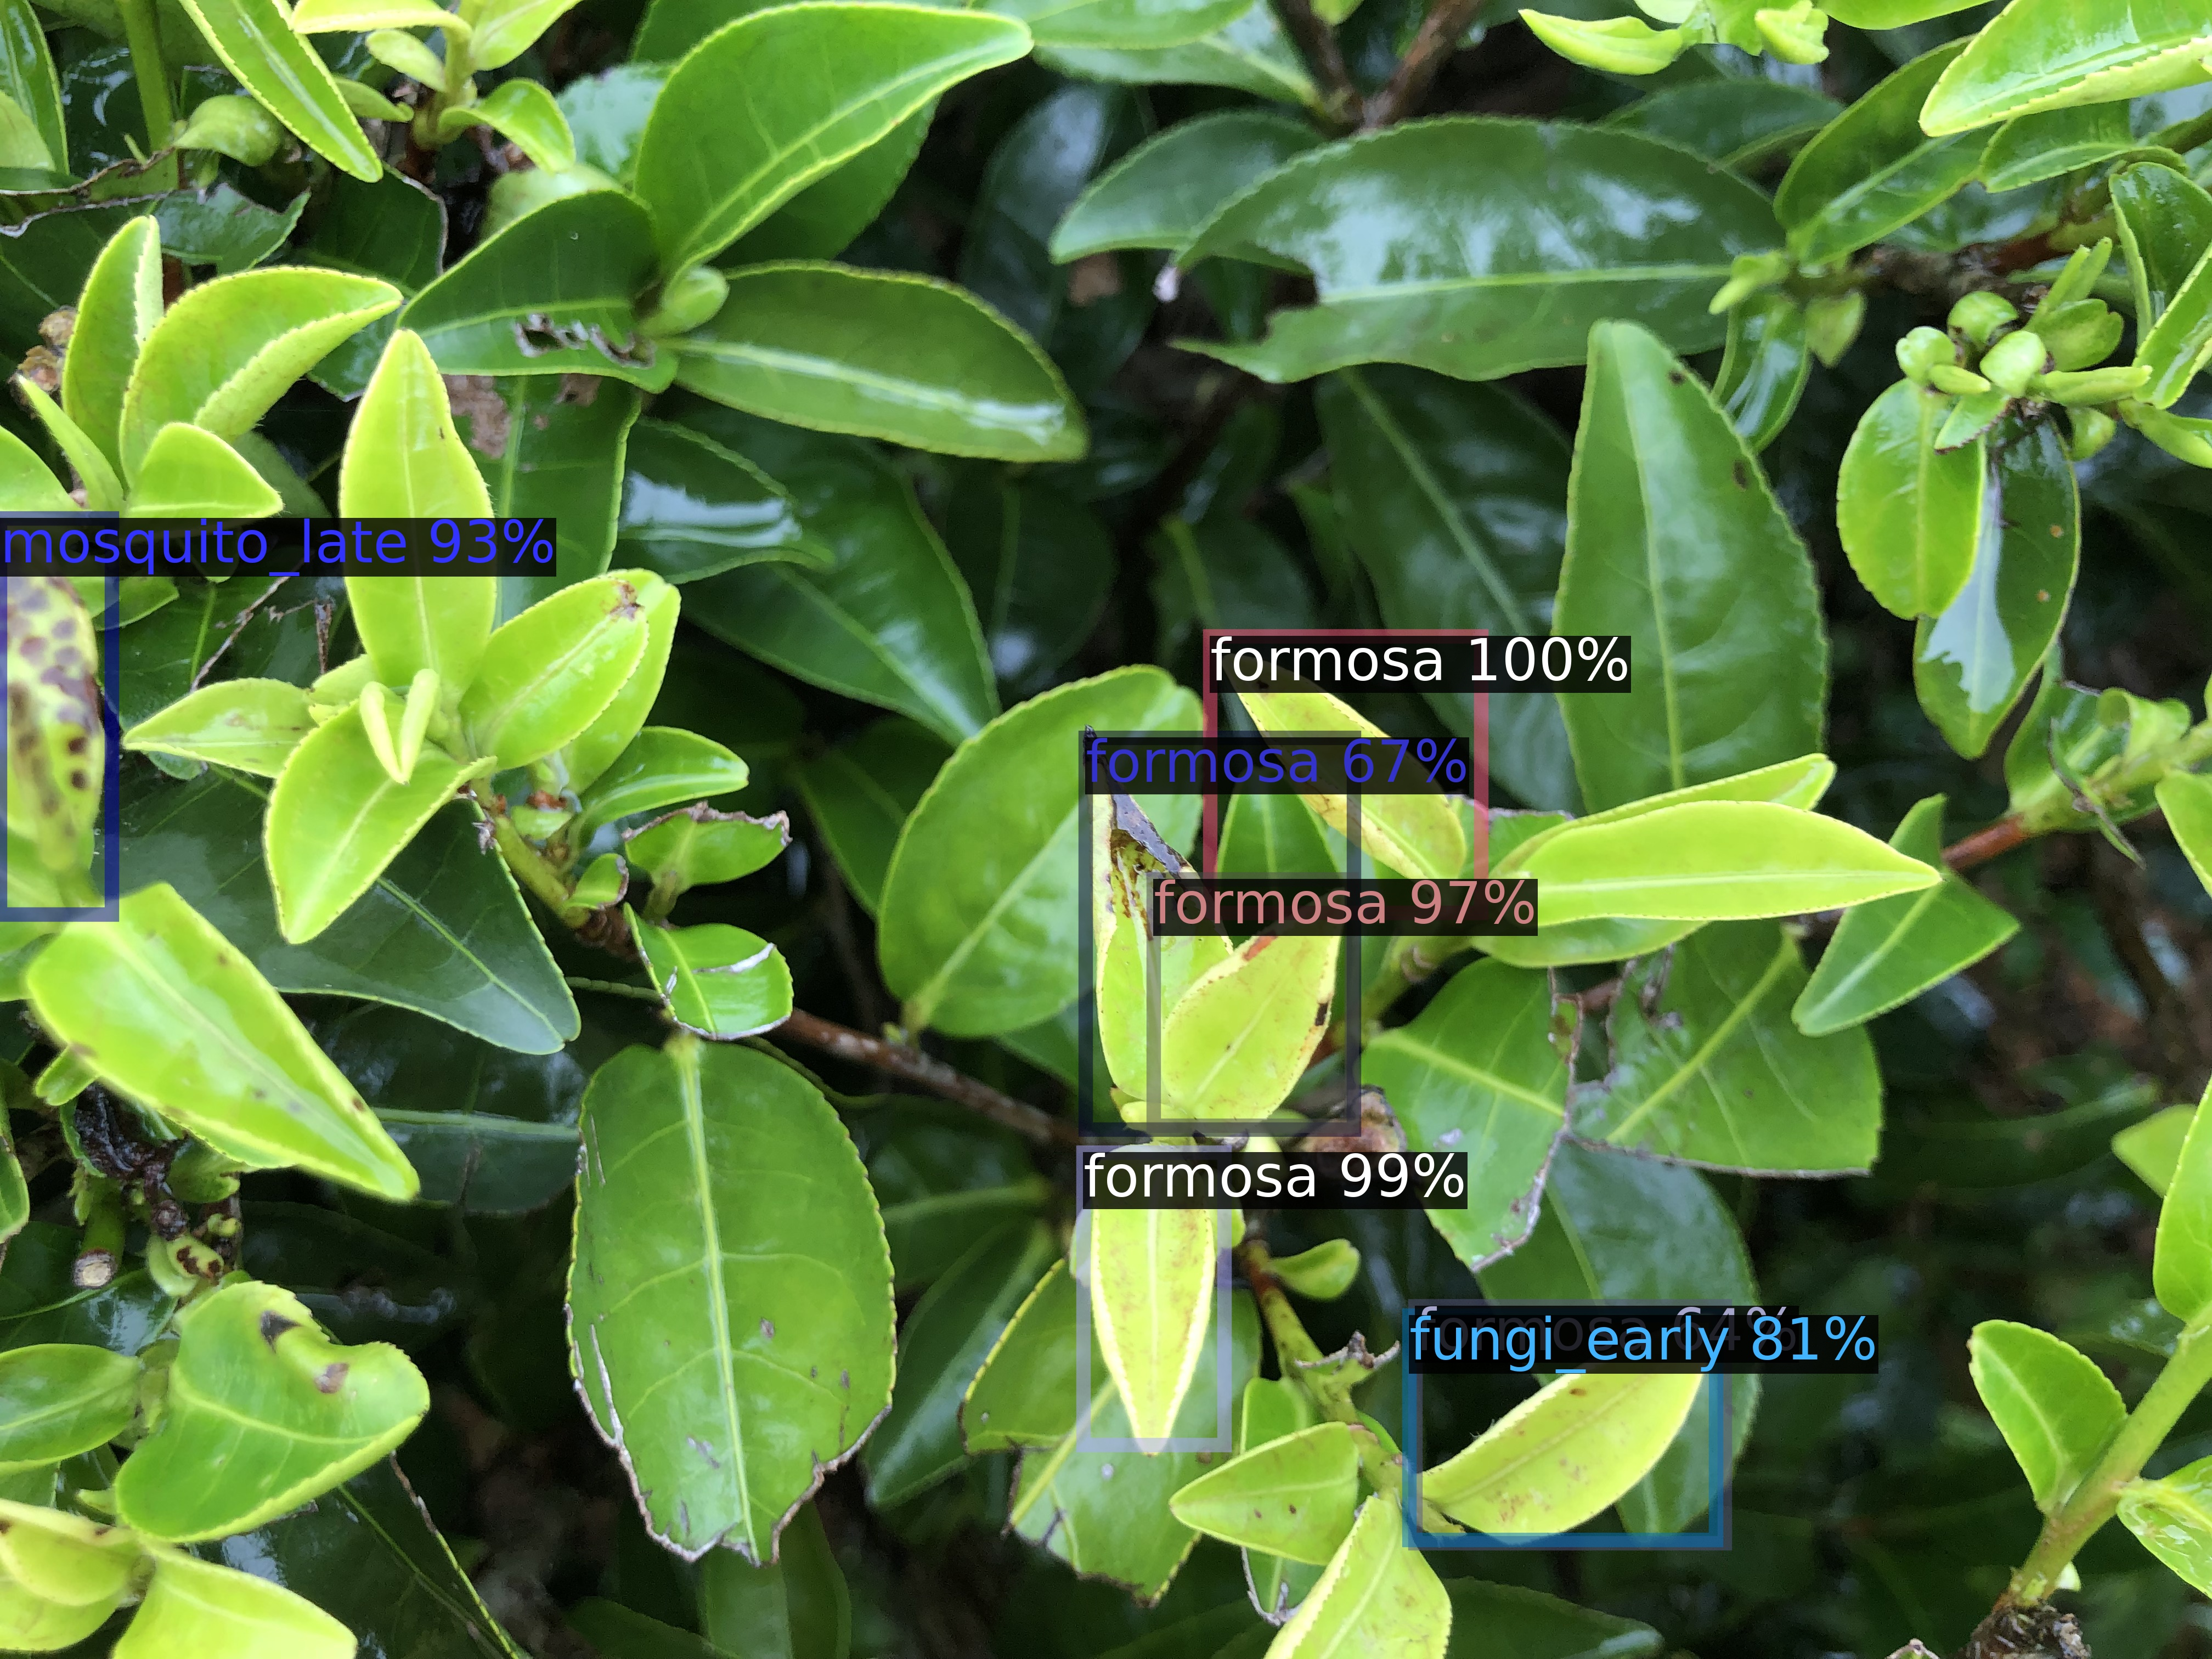formosa: (1085, 737, 1353, 1129), (1211, 636, 1480, 913), (1414, 1307, 1724, 1544), (1153, 878, 1352, 1126), (1083, 1152, 1224, 1445)
fungi_early: (1409, 1316, 1716, 1541)
mosquito_late: (0, 519, 111, 913)
